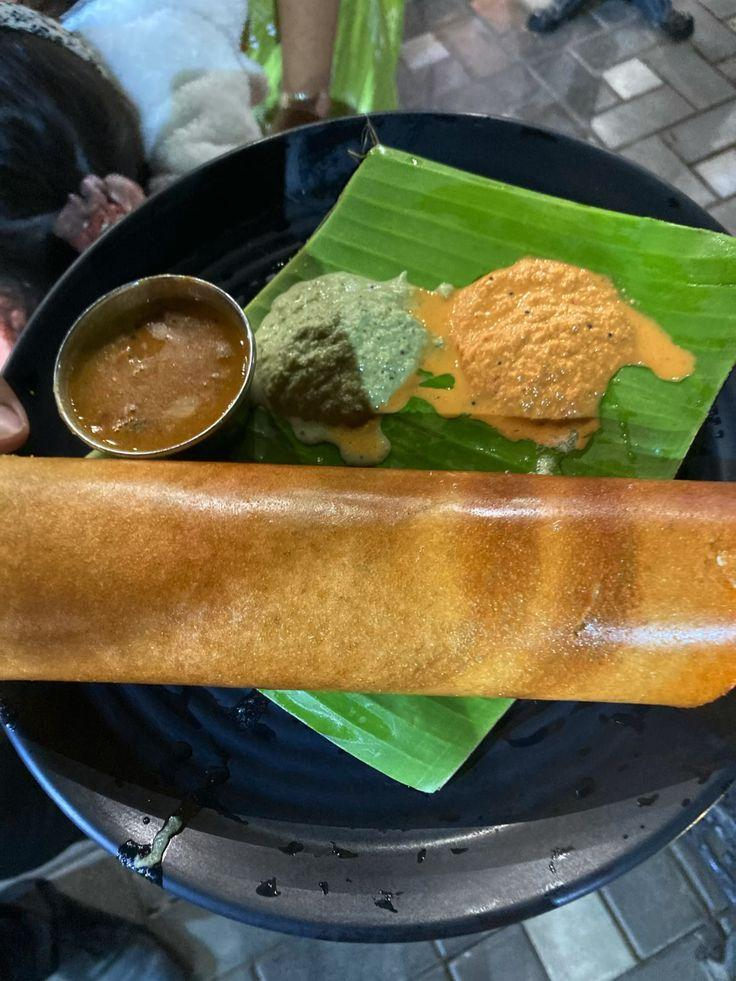dosa: (0, 450, 736, 704)
